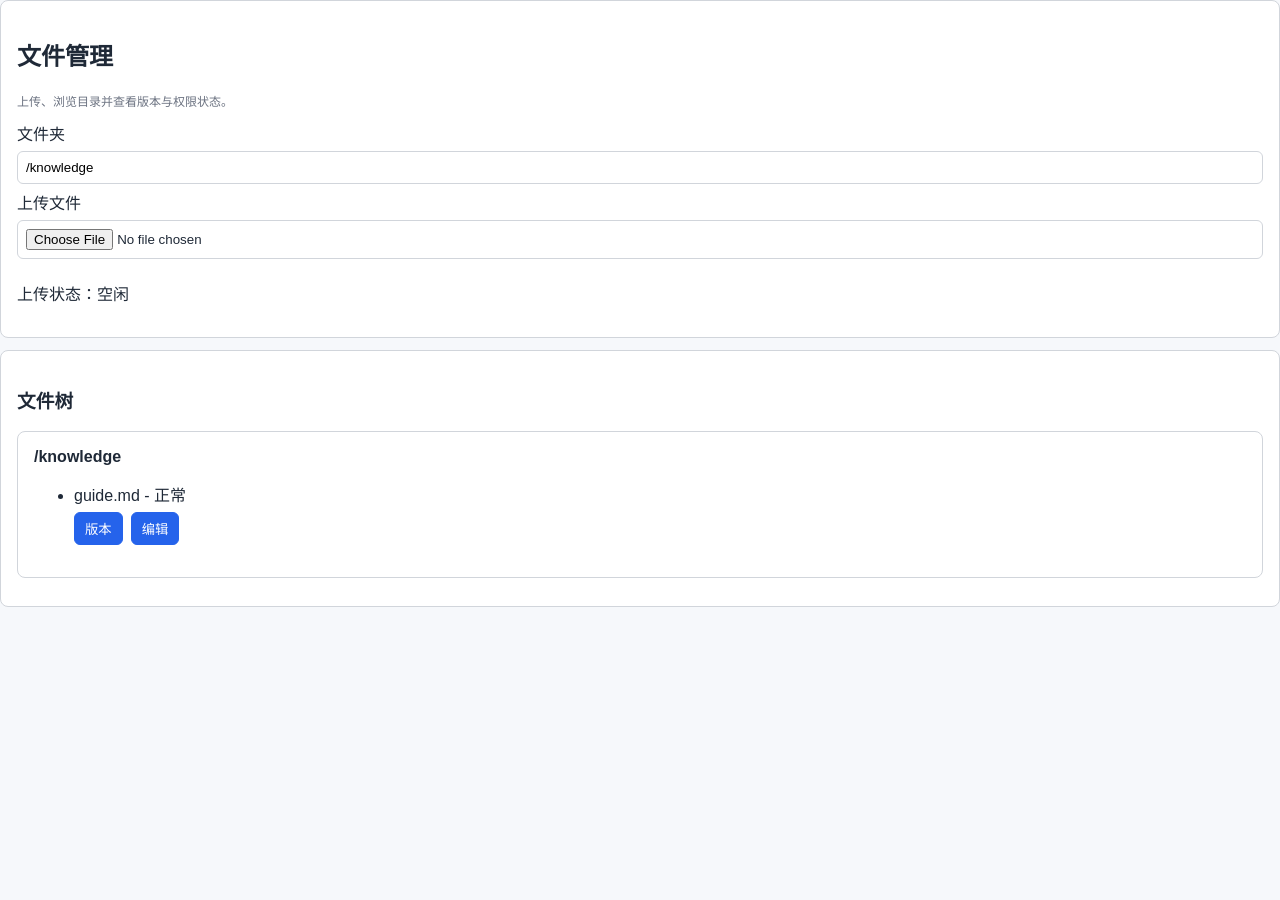
FileManagerPage integration › loads files and versions from backend APIs
Expected: the text "guide.md - 正常" is shown, [74,487,186,504]
Step 1. Click the button "版本" → (98, 529), box [74,512,123,545]
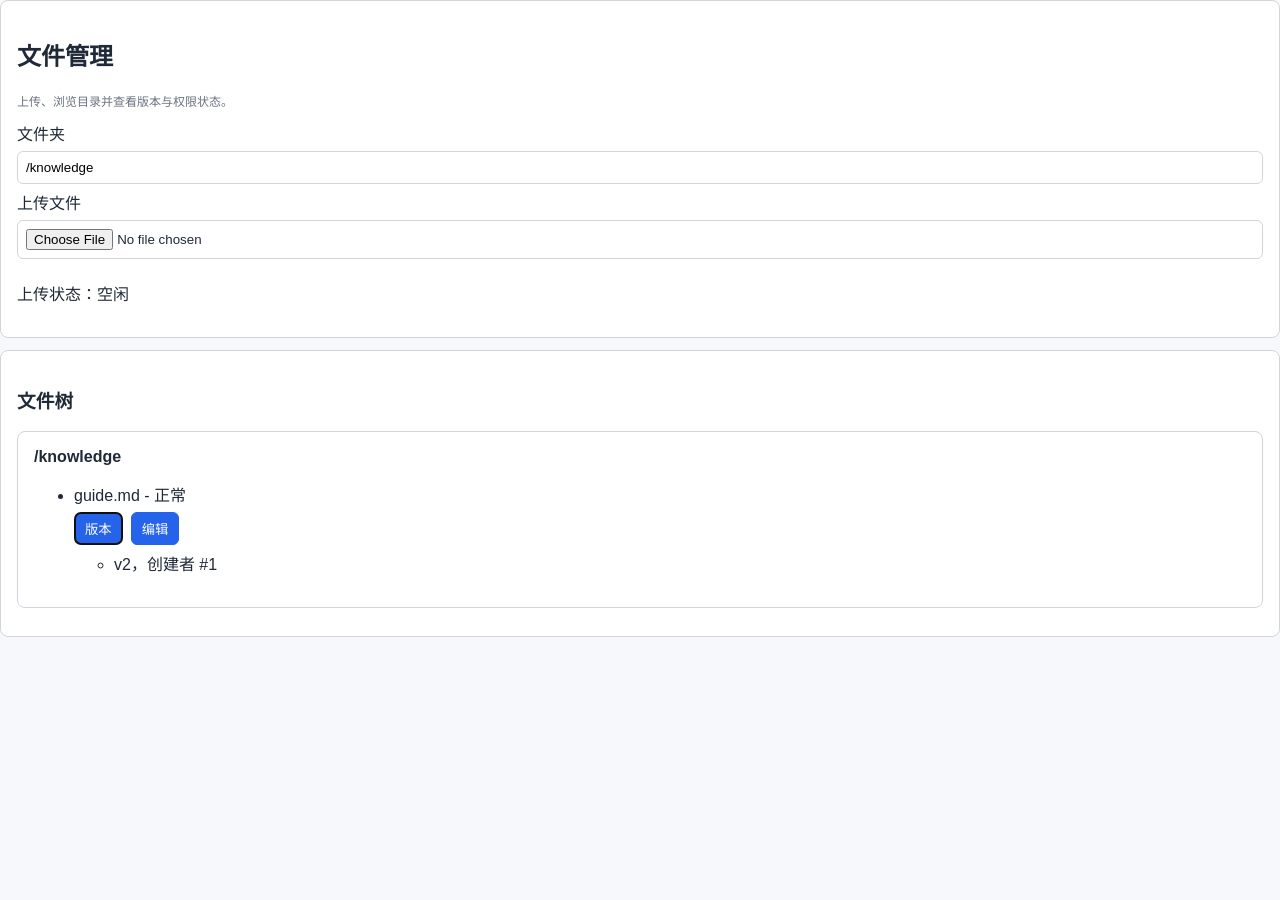
Expected: the list item "v2，创建者 #1" is shown, [114,556,217,573]
